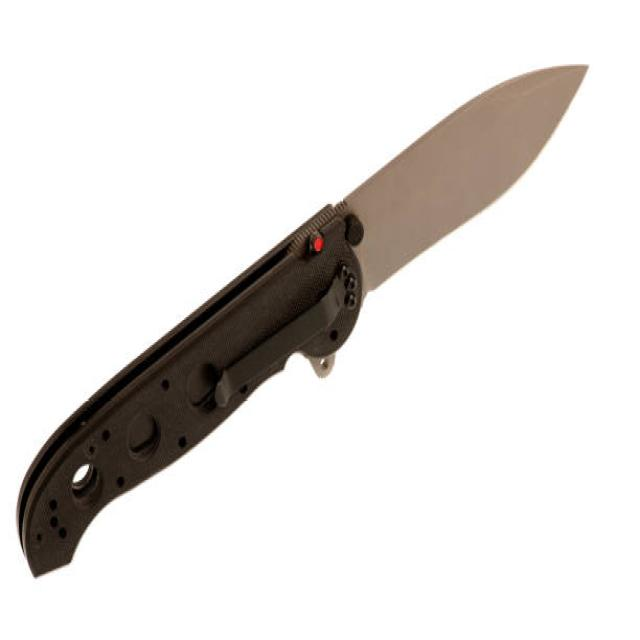knife: (16, 39, 598, 593)
